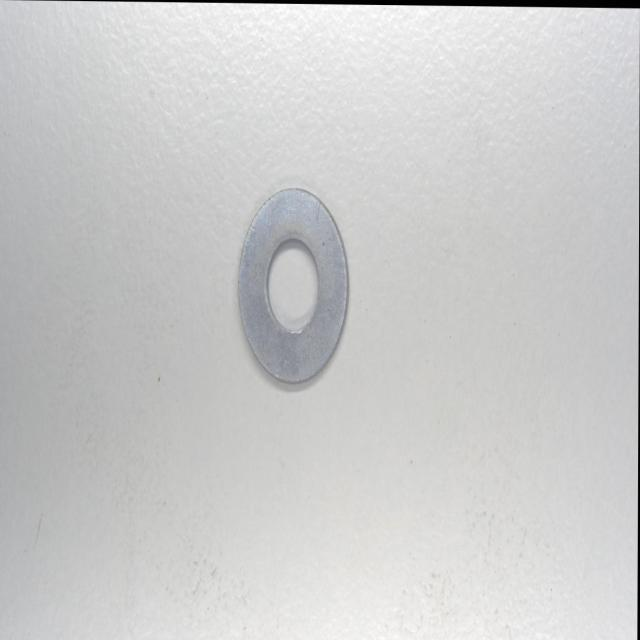washer: (235, 186, 351, 392)
